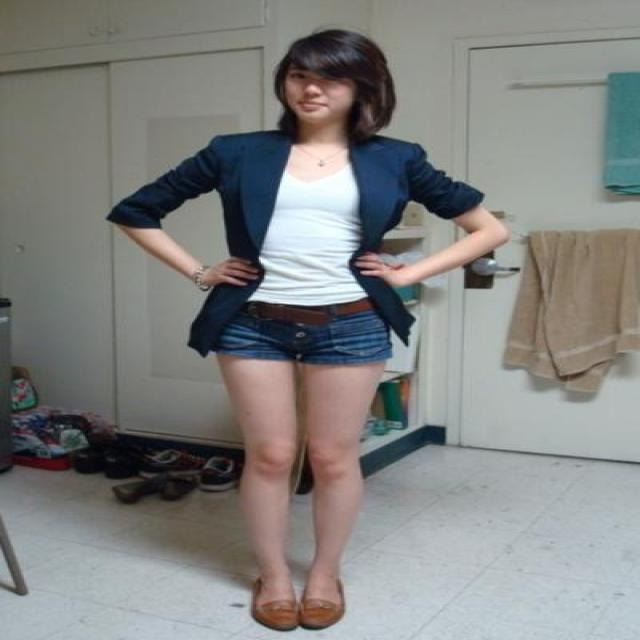jacket: (107, 131, 483, 356)
shirt: (250, 168, 366, 305)
shoe: (251, 582, 344, 630)
shorts: (218, 311, 390, 366)
